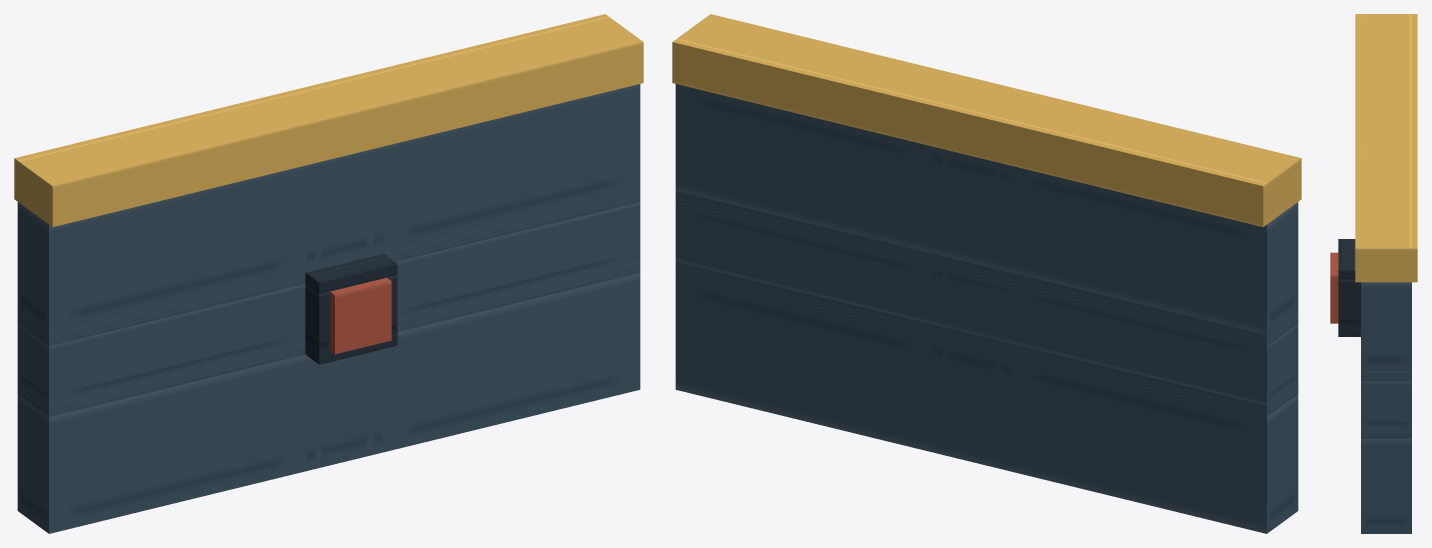
Rendered from sc_laser1.obj.
3 renders of one model, left to right at view 1: azimuth 30°, elevation 25°; view 2: azimuth 150°, elevation 25°; view 3: azimuth 270°, elevation 25°, orthographic. The views are drawn at different scales.
Size of the model in its own units: 19.6 by 11.1 by 3.08.
Materials: 1 (1 with a texture image).
